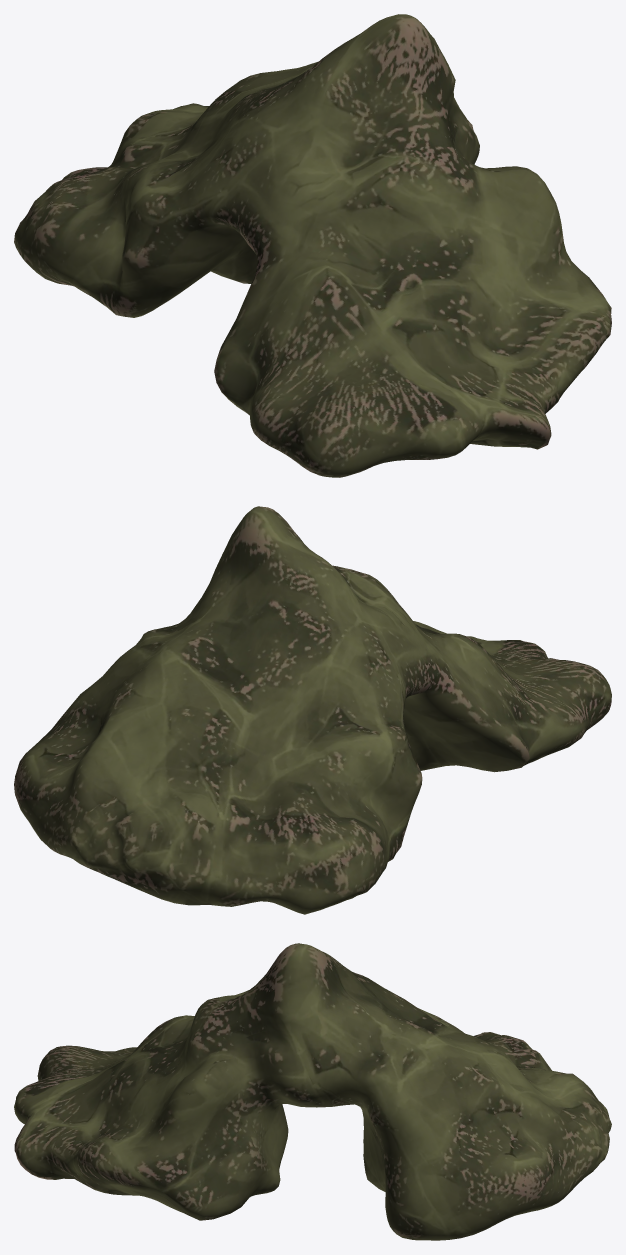
The model's file is underwater_rock_tunnel_compressed.glb.
3 views of the same model, one above another, from view 1: azimuth 30°, elevation 25°; view 2: azimuth 150°, elevation 25°; view 3: azimuth 270°, elevation 25° (orthographic). The views are drawn at different scales.
Visible parts, largest first — view 1: Volume10_Default_0; view 2: Volume10_Default_0; view 3: Volume10_Default_0.
Part boxes in pixels (x1,y1,x2,y2): Volume10_Default_0: [14, 14, 611, 477]; Volume10_Default_0: [14, 506, 611, 914]; Volume10_Default_0: [14, 943, 611, 1240].
Size of the model in its own units: 377 by 271 by 586.
1 material, 1 textured.
